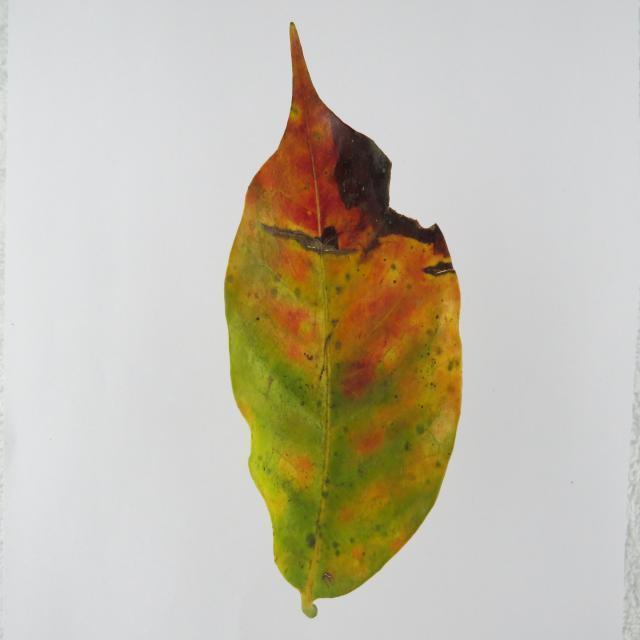DeficienciaNutricional-Fosforo: (225, 23, 461, 617)
